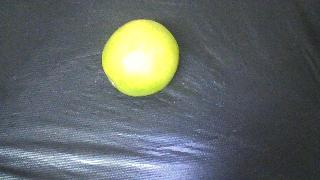LOCAL: (102, 19, 179, 97)
